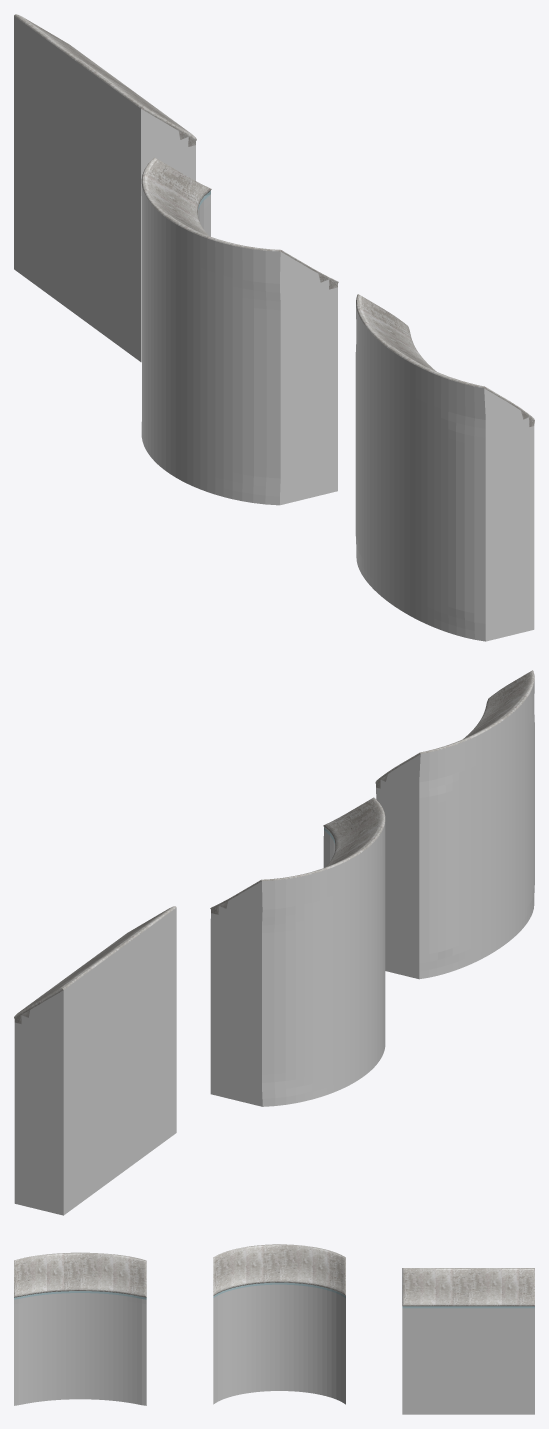
Rendered from slantroof.fbx.
3 renders of one model, top to bottom at view 1: azimuth 30°, elevation 25°; view 2: azimuth 150°, elevation 25°; view 3: azimuth 270°, elevation 25°, orthographic. The views are drawn at different scales.
Parts seen in each view (by area): view 1: SlantroofCurved_1, SlantroofCurved_2, Slantroof; view 2: SlantroofCurved_1, Slantroof, SlantroofCurved_2; view 3: SlantroofCurved_1, SlantroofCurved_2, Slantroof.
Boxes of the visible parts, x1=… form: SlantroofCurved_1: x1=141, y1=157, x2=338, y2=505; SlantroofCurved_2: x1=355, y1=294, x2=534, y2=641; Slantroof: x1=14, y1=14, x2=196, y2=362; SlantroofCurved_1: x1=210, y1=797, x2=385, y2=1106; Slantroof: x1=14, y1=906, x2=176, y2=1215; SlantroofCurved_2: x1=375, y1=670, x2=534, y2=979; SlantroofCurved_1: x1=213, y1=1244, x2=345, y2=1404; SlantroofCurved_2: x1=14, y1=1252, x2=146, y2=1405; Slantroof: x1=402, y1=1268, x2=534, y2=1414.
Size of the model in its own units: 541 by 885 by 3144.
